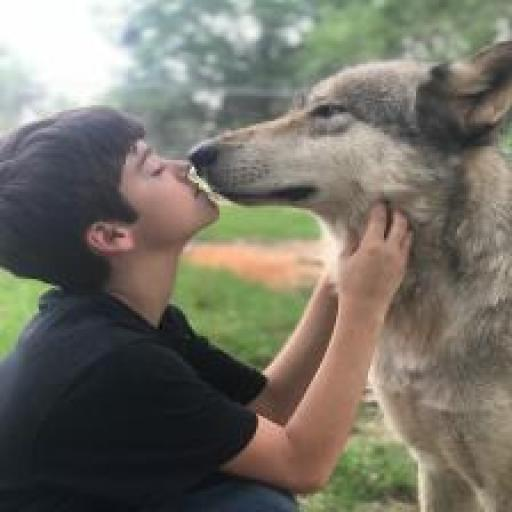wolf: (185, 32, 512, 512)
